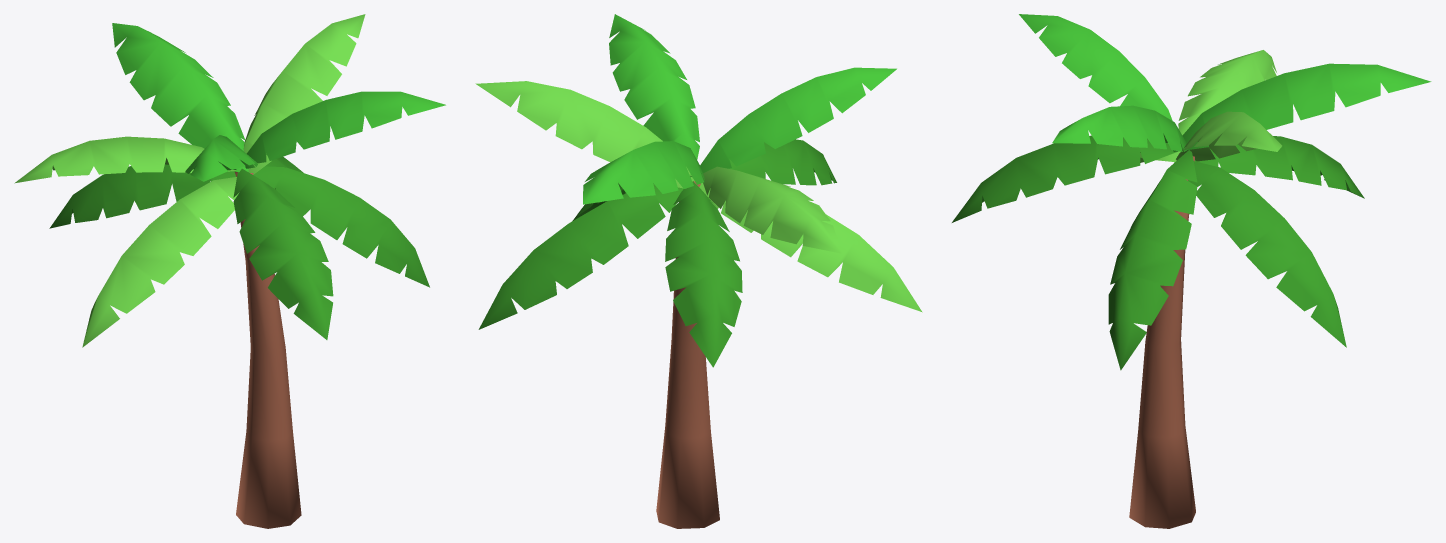
The model's file is Palm_Green_1.fbx.
3 views of the same model, side by side, from view 1: azimuth 30°, elevation 25°; view 2: azimuth 150°, elevation 25°; view 3: azimuth 270°, elevation 25° (orthographic). The views are drawn at different scales.
Visible parts, largest first — view 1: Cube_2498, Plane_039, Plane_038, Plane_043, Plane_001, Plane_037, Plane_040, Plane_002, Plane_041, Plane_042; view 2: Cube_2498, Plane_041, Plane_036, Plane_042, Plane_037, Plane_040, Plane_002, Plane_038, Plane_043, Plane_039; view 3: Cube_2498, Plane_001, Plane_036, Plane_043, Plane_039, Plane_042, Plane_041, Plane_037, Plane_002, Plane_040.
Part boxes in pixels (x1,y1,x2,y2): Cube_2498: (235, 172, 301, 528); Plane_039: (233, 168, 333, 339); Plane_038: (82, 177, 239, 347); Plane_043: (112, 23, 248, 172); Plane_001: (253, 166, 429, 287); Plane_037: (246, 91, 445, 163); Plane_040: (243, 14, 365, 174); Plane_002: (14, 136, 235, 183); Plane_041: (49, 164, 236, 228); Plane_042: (185, 135, 257, 181); Cube_2498: (656, 181, 719, 528); Plane_041: (665, 181, 742, 367); Plane_036: (478, 183, 683, 329); Plane_042: (700, 67, 896, 173); Plane_037: (609, 14, 699, 174); Plane_040: (475, 81, 699, 188); Plane_002: (701, 166, 841, 253); Plane_038: (699, 183, 922, 312); Plane_043: (583, 141, 704, 204); Plane_039: (729, 139, 836, 185); Cube_2498: (1129, 153, 1195, 528); Plane_001: (1108, 150, 1197, 370); Plane_036: (1188, 161, 1346, 347); Plane_043: (1173, 63, 1431, 151); Plane_039: (952, 135, 1178, 222); Plane_042: (1019, 14, 1172, 143); Plane_041: (1174, 136, 1364, 198); Plane_037: (1052, 105, 1187, 151); Plane_002: (1178, 50, 1276, 135); Plane_040: (1176, 111, 1282, 161).
Size of the model in its own units: 502 by 574 by 560.
